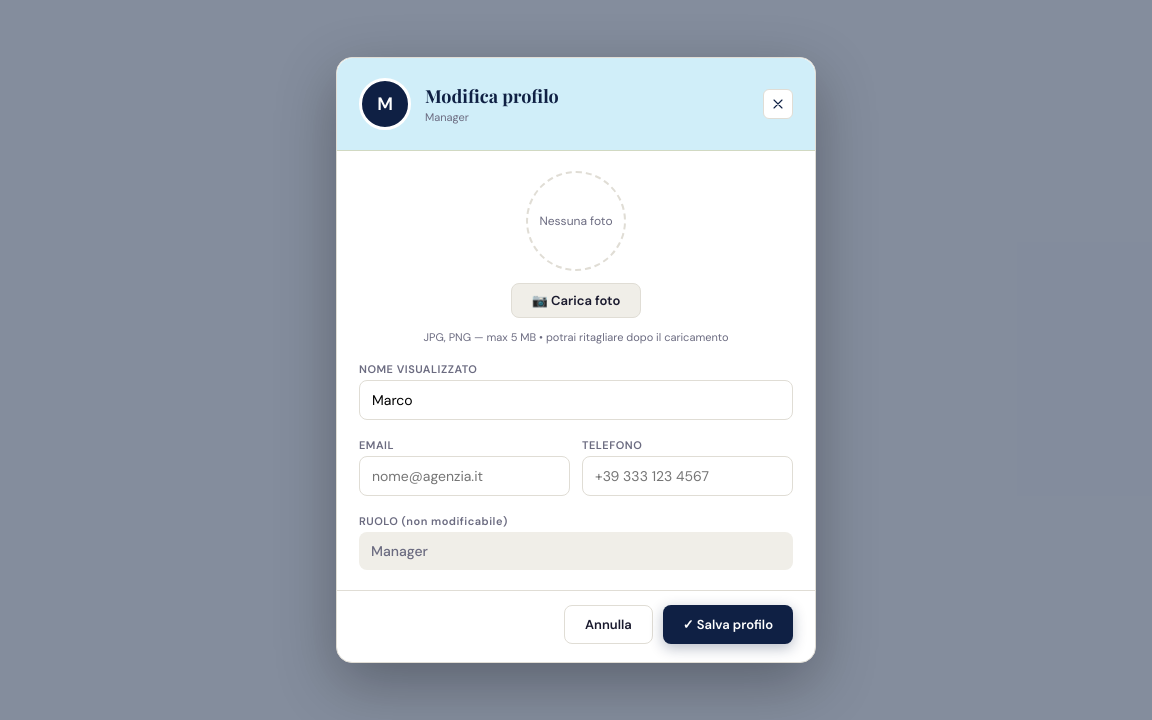
Test: ProfileEditor — salvataggio in volo › mentre scrive, il bottone lo dice ed è spento
The width and height of the screenshot is (1152, 720).
Click the button "✓ Salva profilo".
click(728, 624)  # box [663, 605, 793, 644]
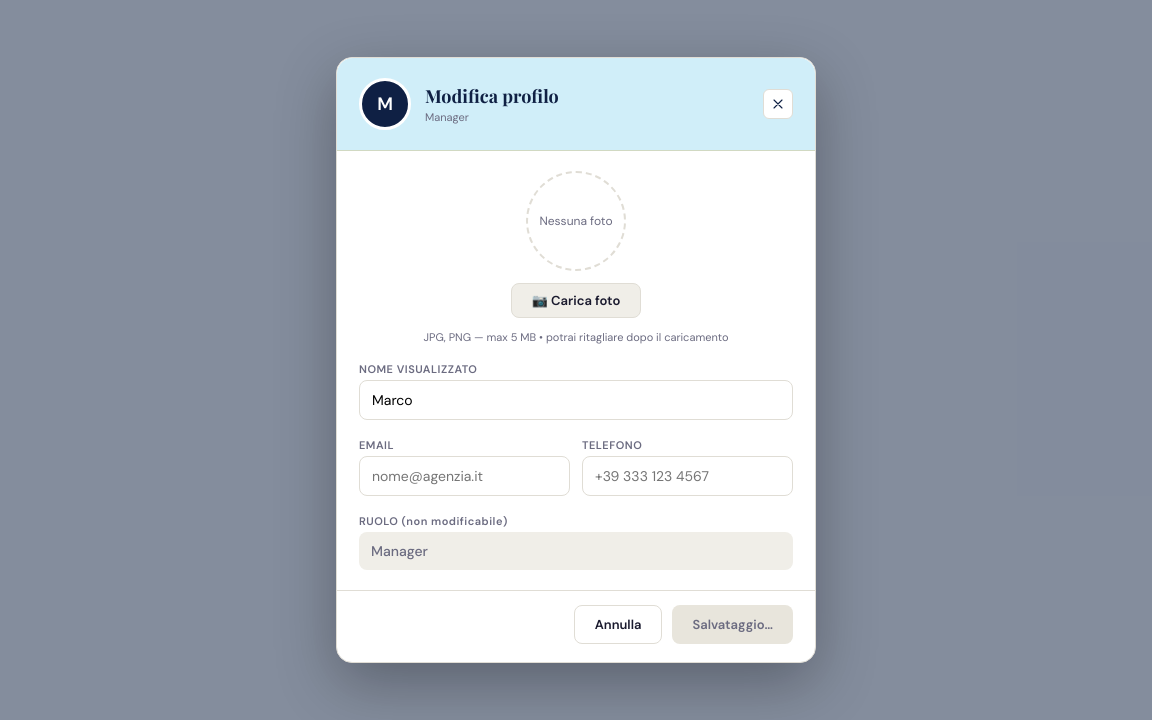
Check: the button "Salvataggio…" is disabled, box [672, 605, 793, 644]
